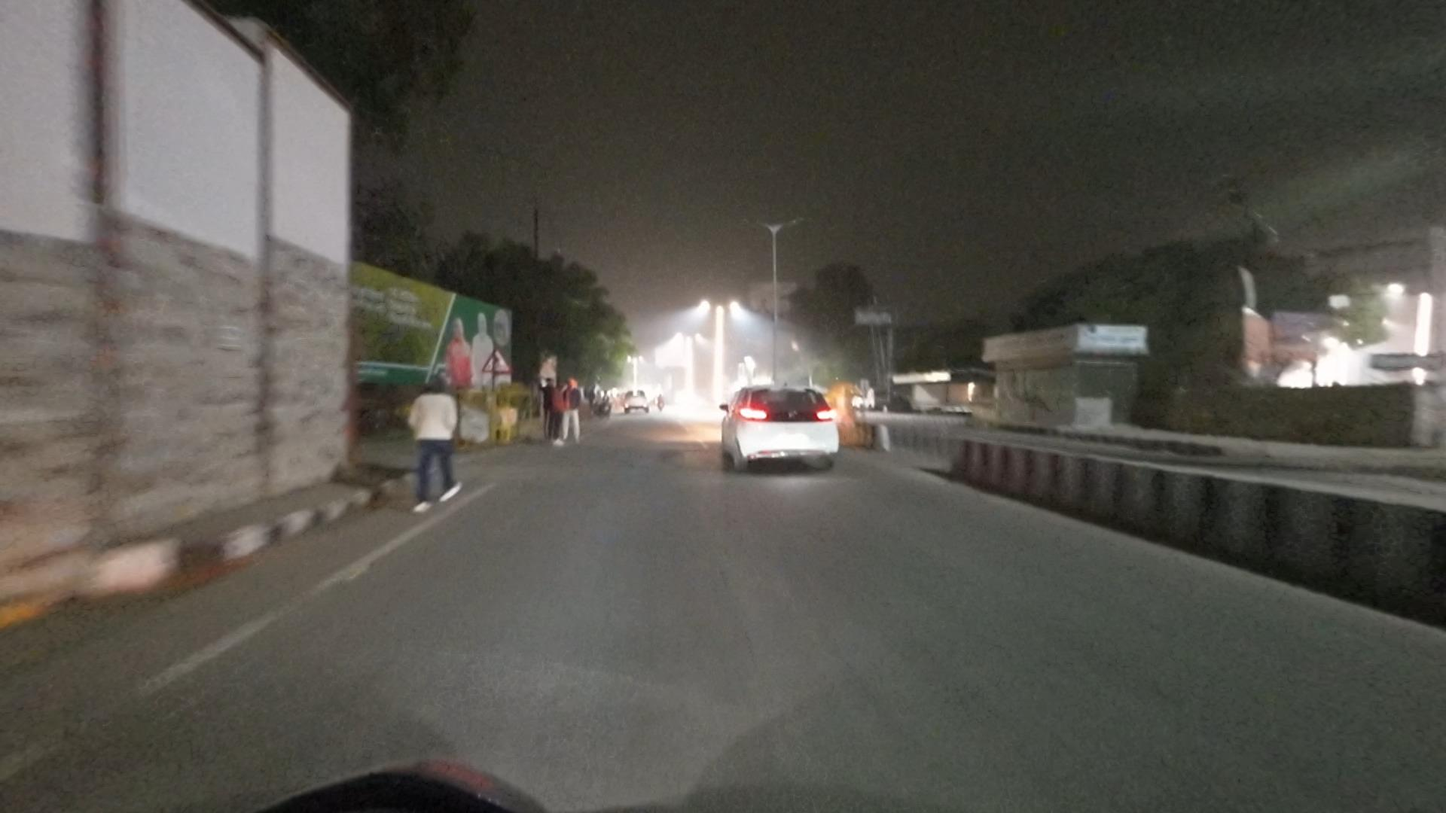streetlight: (741, 214, 771, 232), (775, 215, 806, 229)
